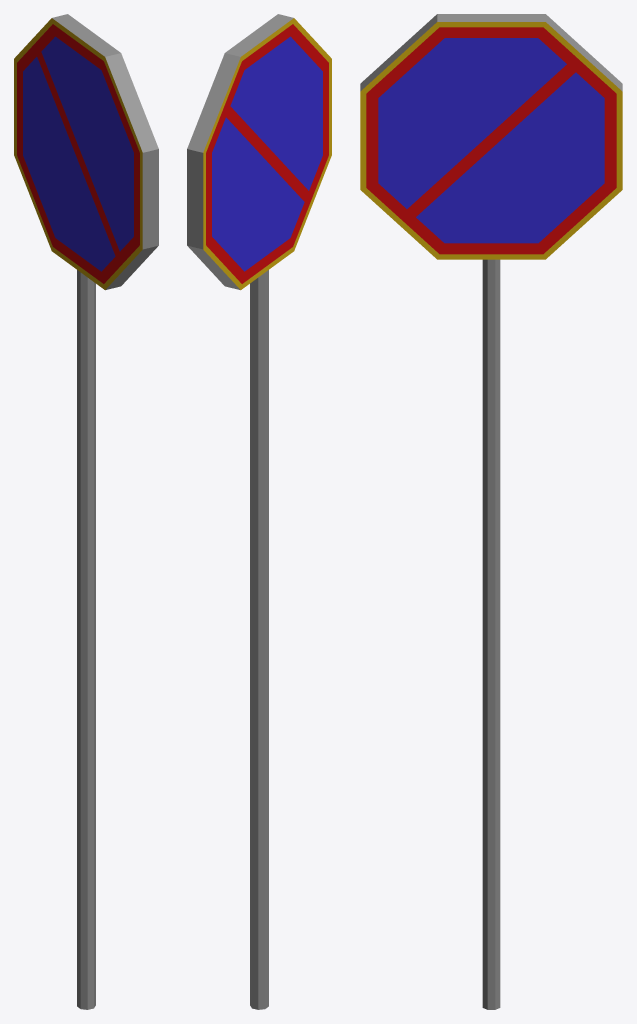
File: Signage 1.fbx
3 views of the same model, side by side, from view 1: azimuth 30°, elevation 25°; view 2: azimuth 150°, elevation 25°; view 3: azimuth 270°, elevation 25° (orthographic).
Visible parts, largest first — view 1: Signage 1; view 2: Signage 1; view 3: Signage 1.
Part boxes in pixels (<box>): Signage 1: <box>14,14,158,1009</box>; Signage 1: <box>187,14,331,1009</box>; Signage 1: <box>360,14,622,1009</box>.
Size of the model in its own units: 0.0455 by 0.6307 by 2.62.
